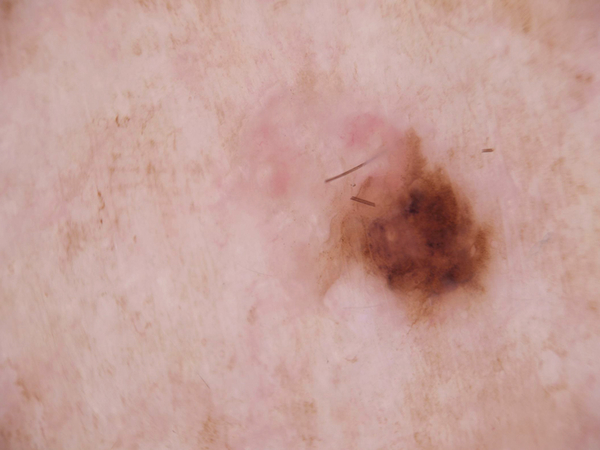Detected Lesion: (320, 129, 506, 327)
